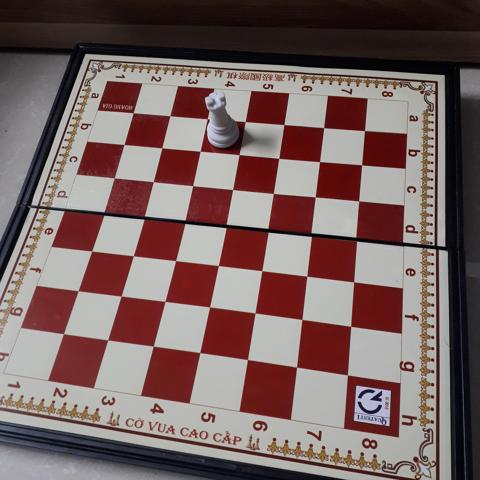xcorner: (161, 107, 178, 124), (269, 147, 286, 164), (229, 144, 246, 161), (190, 141, 207, 158), (152, 138, 169, 155), (115, 135, 132, 152), (306, 186, 323, 203), (264, 182, 281, 199), (143, 171, 160, 188), (302, 224, 319, 241), (215, 215, 232, 232), (133, 207, 150, 224), (93, 203, 110, 220), (252, 260, 269, 277), (164, 250, 181, 267), (122, 245, 139, 262), (199, 298, 216, 315), (154, 292, 171, 309), (287, 358, 304, 375), (238, 351, 255, 368), (190, 344, 207, 361), (98, 331, 115, 348), (355, 120, 371, 137), (314, 118, 331, 134), (274, 115, 291, 131), (236, 112, 252, 129), (352, 154, 369, 170), (310, 151, 327, 167), (350, 190, 367, 206), (223, 178, 239, 195), (182, 175, 199, 191), (105, 168, 121, 185), (347, 229, 364, 245), (258, 220, 275, 236), (174, 211, 190, 228), (298, 265, 314, 282), (208, 255, 224, 272), (81, 241, 98, 257), (342, 316, 358, 333), (245, 304, 262, 320), (111, 287, 128, 303), (69, 281, 85, 298), (338, 366, 355, 382), (55, 325, 71, 342), (198, 110, 214, 126), (125, 105, 141, 121), (345, 271, 361, 287), (293, 310, 309, 326), (144, 338, 160, 354)
